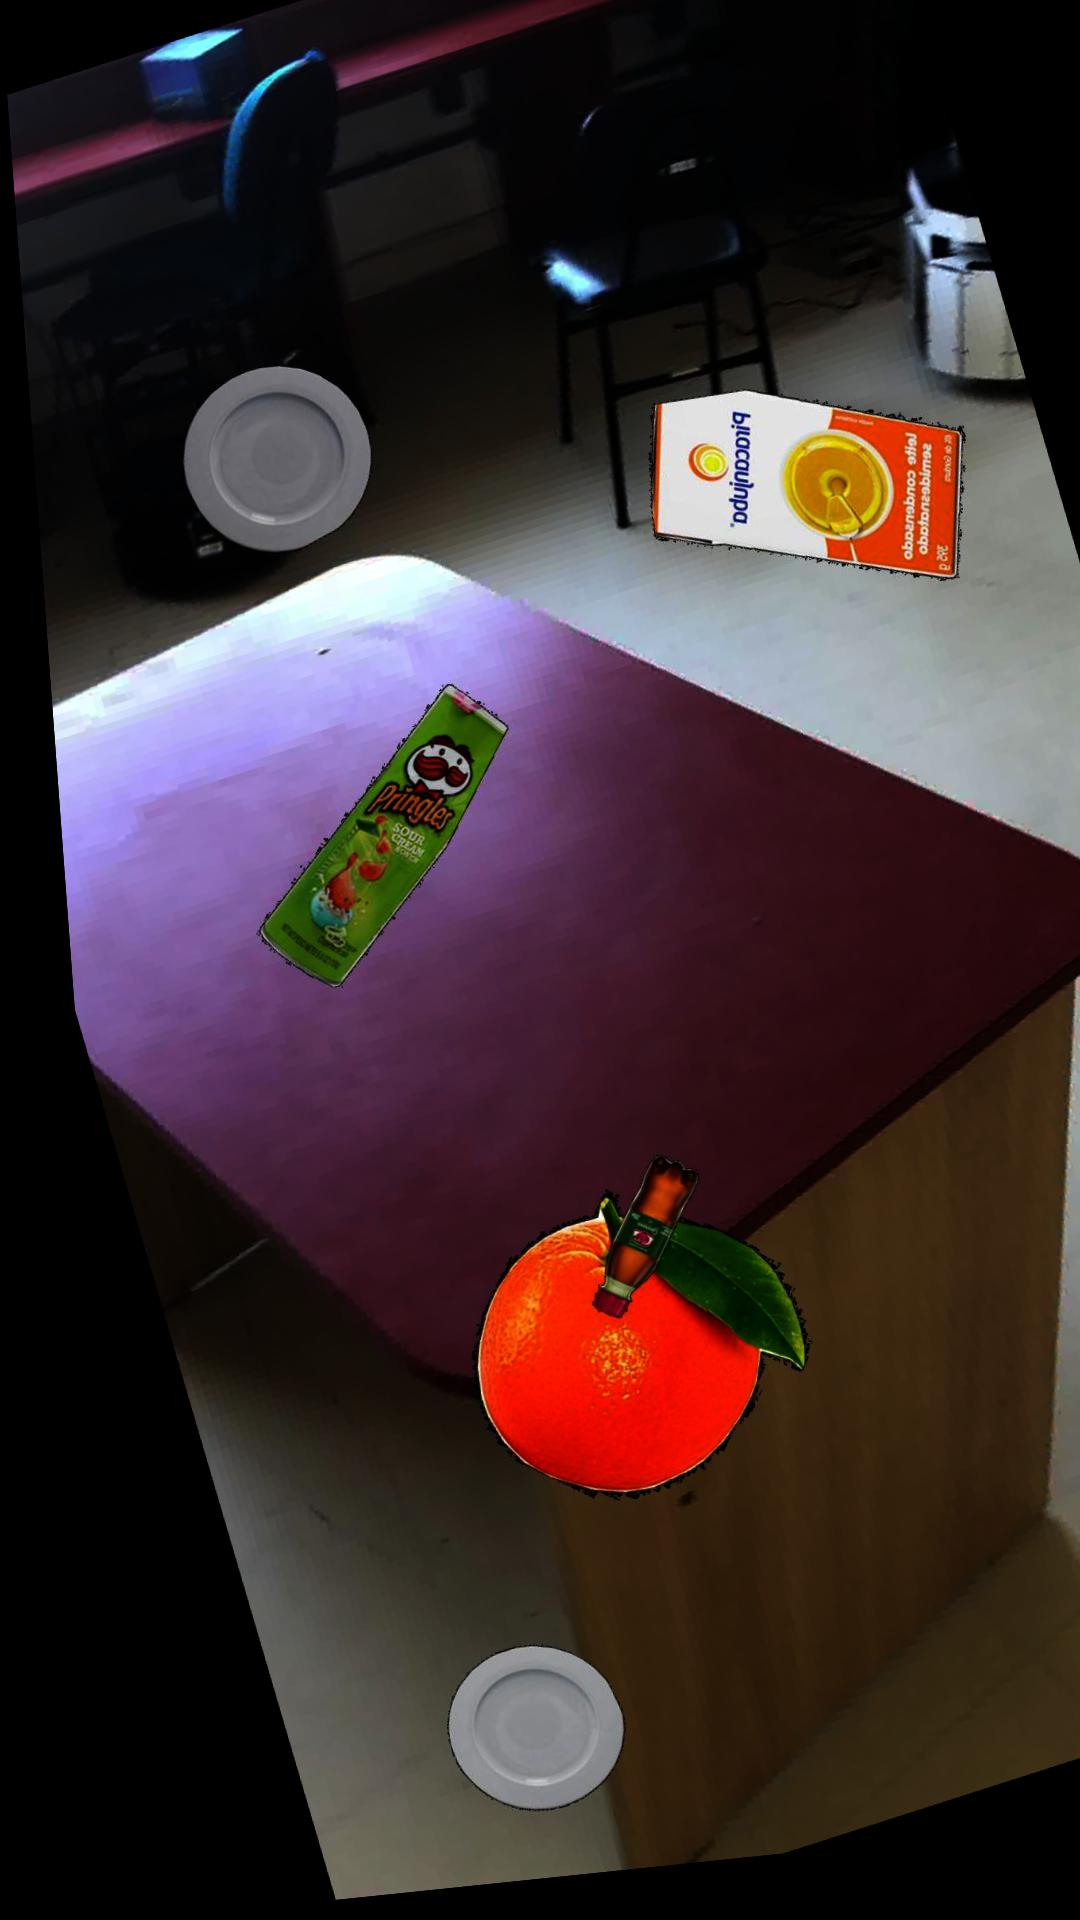guarana: (568, 1166, 676, 1328)
orange: (446, 1201, 783, 1509)
plate: (170, 369, 361, 556), (415, 1652, 595, 1818)
pringles: (241, 691, 493, 992)
